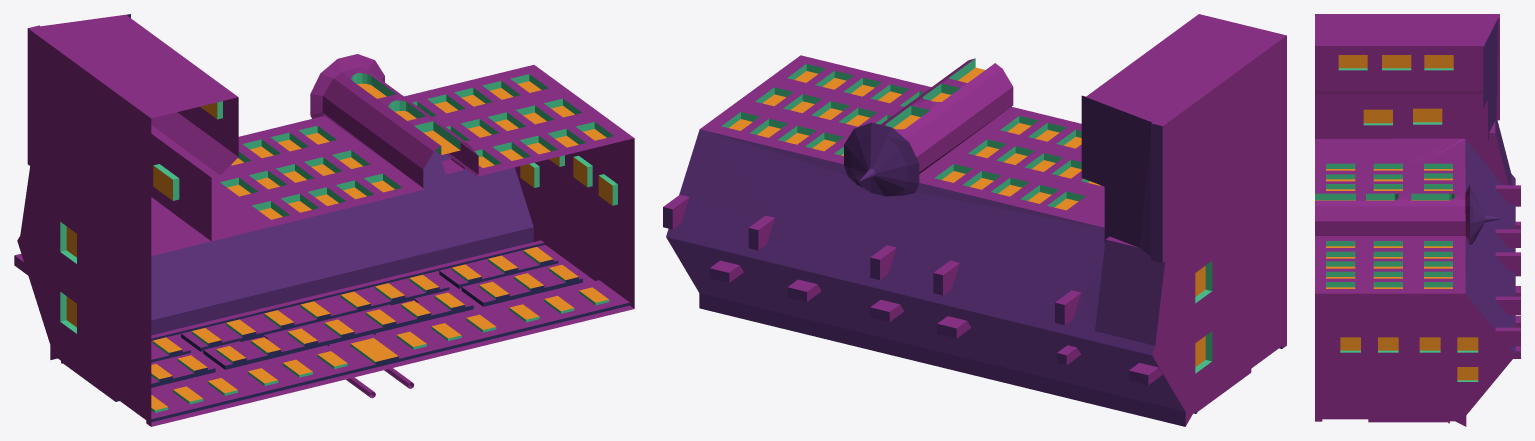
File: Stowarzyszenie Kupców Tier 3.fbx
The picture shows the model from 3 angles, left to right: view 1: azimuth 30°, elevation 25°; view 2: azimuth 150°, elevation 25°; view 3: azimuth 270°, elevation 25°; orthographic projection. The views are drawn at different scales.
Visible parts, largest first — view 1: Stowarzyszenie Kupców; view 2: Stowarzyszenie Kupców; view 3: Stowarzyszenie Kupców.
Boxes of the visible parts, left/top/right/bottom form: Stowarzyszenie Kupców: left=14, top=14, right=634, bottom=426; Stowarzyszenie Kupców: left=663, top=14, right=1286, bottom=426; Stowarzyszenie Kupców: left=1315, top=14, right=1520, bottom=426.
Size of the model in its own units: 4.1 by 2.72 by 2.02.
